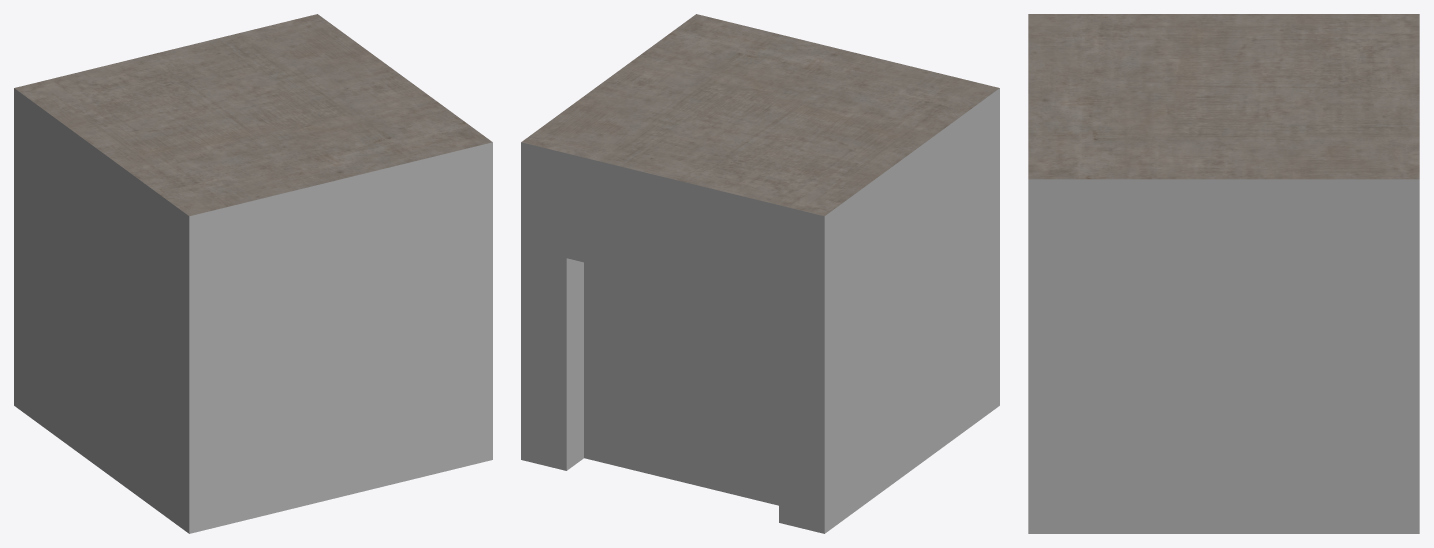
The model's file is wallB_garage.fbx.
3 views of the same model, side by side, from view 1: azimuth 30°, elevation 25°; view 2: azimuth 150°, elevation 25°; view 3: azimuth 270°, elevation 25° (orthographic). The views are drawn at different scales.
Parts seen in each view (by area): view 1: wallB_garage; view 2: wallB_garage; view 3: wallB_garage.
Boxes of the visible parts, left/top/right/bottom form: wallB_garage: left=14, top=14, right=492, bottom=533; wallB_garage: left=521, top=14, right=999, bottom=533; wallB_garage: left=1028, top=14, right=1419, bottom=533.
Bounding box in the file's own units: 10 × 10 × 10.
